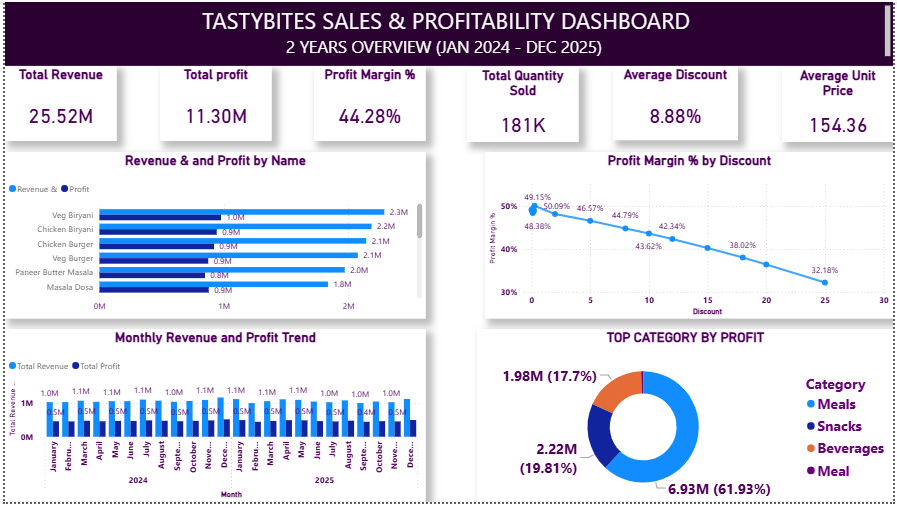

The page's visual inventory and layout, read from the dashboard file:
{"tool":"powerbi","page":{"name":"Page 1","canvas":[1280,720],"ordinal":0},"visuals":[{"type":"textbox","box":[0,0,1280,92.4],"z":0},{"type":"card","title":"Total Revenue","fields":{"Values":["tastybites_orders_60000(1).Total Revenue"]},"box":[0,113.5,161.3,107.5],"z":1000},{"type":"card","title":"Total profit","fields":{"Values":["tastybites_orders_60000(1).Total Profit"]},"box":[219.4,113.5,161.3,107.5],"z":2000},{"type":"card","title":"Profit Margin %","fields":{"Values":["tastybites_orders_60000(1).Profit Margin %"]},"box":[444.8,113.5,161.3,107.5],"z":3000},{"type":"card","title":"Total Quantity Sold","fields":{"Values":["tastybites_orders_60000(1).Total Quantity Sold"]},"box":[658.2,113.5,161.3,107.5],"z":4000},{"type":"card","title":"Average Discount","fields":{"Values":["tastybites_orders_60000(1).Average Discound"]},"box":[883.6,113.5,180,107.4],"z":5000},{"type":"card","title":"Average Unit Price","fields":{"Values":["tastybites_orders_60000(1).Average Unite price"]},"box":[1118.7,113.5,161.3,107.5],"z":6000},{"type":"clusteredBarChart","fields":{"Category":["tastybites_orders_60000(1).ProductName"],"Y":["tastybites_orders_60000(1).Total Revenue","tastybites_orders_60000(1).Total Profit"]},"box":[0,237.5,417.6,240.6],"z":7000},{"type":"lineChart","fields":{"Category":["tastybites_orders_60000(1).Discount"],"Y":["tastybites_orders_60000(1).Profit Margin %"]},"box":[433.4,236.9,450.2,240.2],"z":8000},{"type":"lineClusteredColumnComboChart","title":"Quantity Sold & Profit Margin % by product","fields":{"Category":["tastybites_orders_60000(1).ProductName"],"Y":["tastybites_orders_60000(1).Total Quantity Sold"],"Y2":["tastybites_orders_60000(1).Profit Margin %"]},"box":[900.2,237.5,379.8,240.6],"z":9000},{"type":"scatterChart","title":"Average Ubit Price vs Total Quantity Sold","fields":{"X":["tastybites_orders_60000(1).Average Unite price"],"Y":["tastybites_orders_60000(1).Total Quantity Sold"],"Series":["tastybites_orders_60000(1).ProductName"],"Size":["tastybites_orders_60000(1).Total Profit"]},"box":[0,491.7,417.6,228.5],"z":10000},{"type":"treemap","fields":{"Group":["tastybites_orders_60000(1).Category"],"Values":["tastybites_orders_60000(1).Total Profit"],"Details":["tastybites_orders_60000(1).ProductName"]},"box":[432.7,491.7,450.9,228.5],"z":11000},{"type":"lineClusteredColumnComboChart","title":"Monthly Revenue and Profit Trend","fields":{"Y":["tastybites_orders_60000(1).Total Revenue"],"Category":["tastybites_orders_60000(1).OrderDate.Variation.Date Hierarchy.Year","tastybites_orders_60000(1).OrderDate.Variation.Date Hierarchy.Month"],"Y2":["tastybites_orders_60000(1).Total Profit"]},"box":[900.2,491.7,379.8,228.5],"z":12000}]}

Visuals, with their boxes in screenshot pixels (x1, y1, x2, y2), scaled from the page's 1280x720 canvas onto the 897x508 screenshot:
textbox: box=[0, 0, 896, 65]
"Total Revenue" card: box=[0, 80, 113, 156]
"Total profit" card: box=[154, 80, 267, 156]
"Profit Margin %" card: box=[312, 80, 425, 156]
"Total Quantity Sold" card: box=[461, 80, 574, 156]
"Average Discount" card: box=[619, 80, 745, 156]
"Average Unit Price" card: box=[784, 80, 896, 156]
clusteredBarChart - tastybites_orders_60000(1).ProductName x tastybites_orders_60000(1).Total Revenue: box=[0, 168, 293, 337]
lineChart - tastybites_orders_60000(1).Discount x tastybites_orders_60000(1).Profit Margin %: box=[304, 167, 619, 337]
"Quantity Sold & Profit Margin % by product" lineClusteredColumnComboChart: box=[631, 168, 896, 337]
"Average Ubit Price vs Total Quantity Sold" scatterChart: box=[0, 347, 293, 507]
treemap - tastybites_orders_60000(1).Category x tastybites_orders_60000(1).Total Profit: box=[303, 347, 619, 507]
"Monthly Revenue and Profit Trend" lineClusteredColumnComboChart: box=[631, 347, 896, 507]
